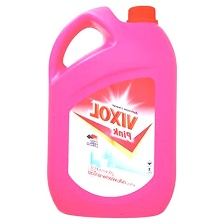cleaning_solution: (45, 2, 179, 221)
